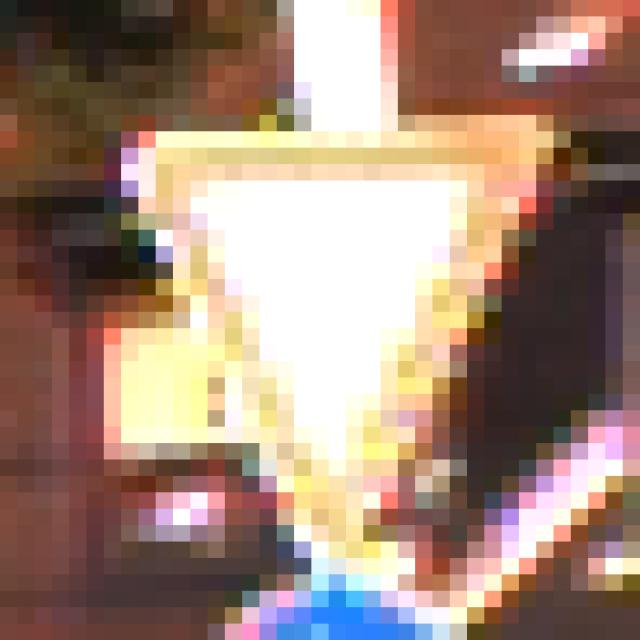Give Way: (105, 99, 537, 559)
